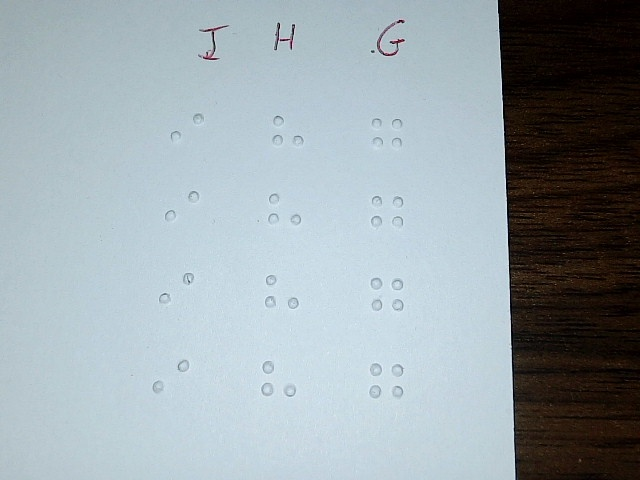G: (369, 108, 405, 168), (369, 185, 405, 245), (369, 268, 405, 328), (369, 354, 405, 414)
H: (261, 352, 297, 415), (270, 104, 306, 164), (267, 183, 303, 243), (264, 266, 300, 326)
I: (152, 349, 191, 412), (159, 262, 195, 325), (169, 102, 205, 162), (164, 182, 200, 242)
